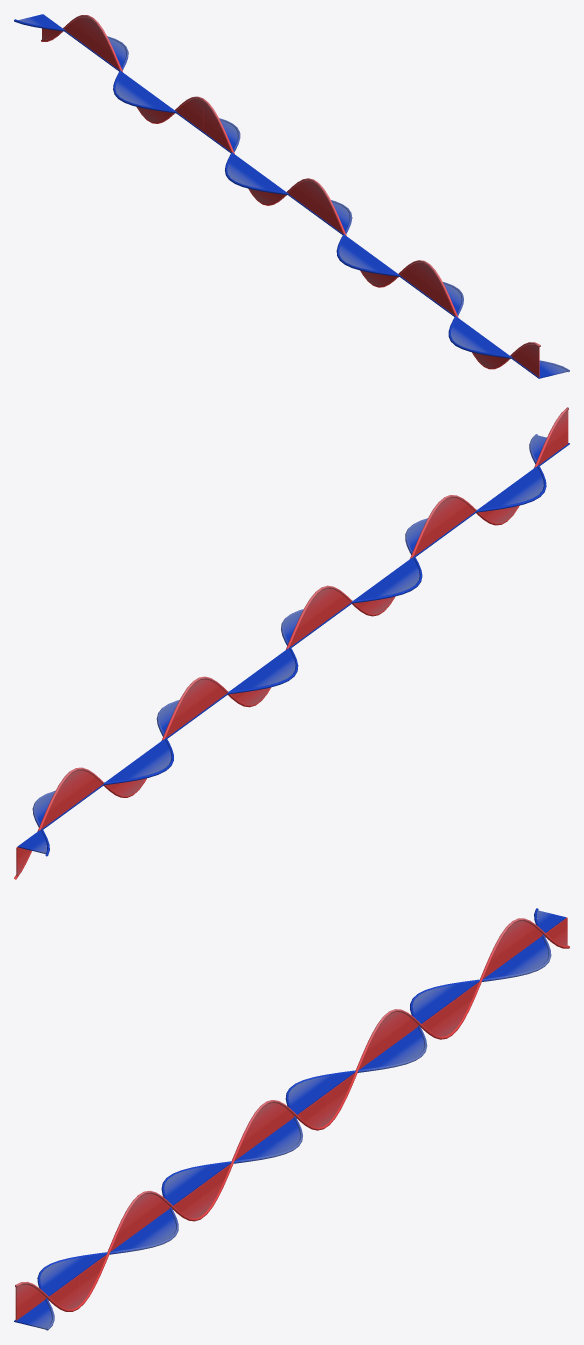
The model's file is Infrared.glb.
3 views of the same model, one above another, from view 1: azimuth 30°, elevation 25°; view 2: azimuth 150°, elevation 25°; view 3: azimuth 330°, elevation 25° (orthographic). The views are drawn at different scales.
Visible parts, largest first — view 1: infrared; view 2: infrared; view 3: infrared.
Boxes of the visible parts, box(x1,y1,x2,y2) form: infrared: box(14, 14, 569, 378); infrared: box(14, 407, 569, 879); infrared: box(14, 908, 569, 1330).
Size of the model in its own units: 0.6331 by 0.6331 by 9.13.
Materials: 4 (4 with a texture image).
